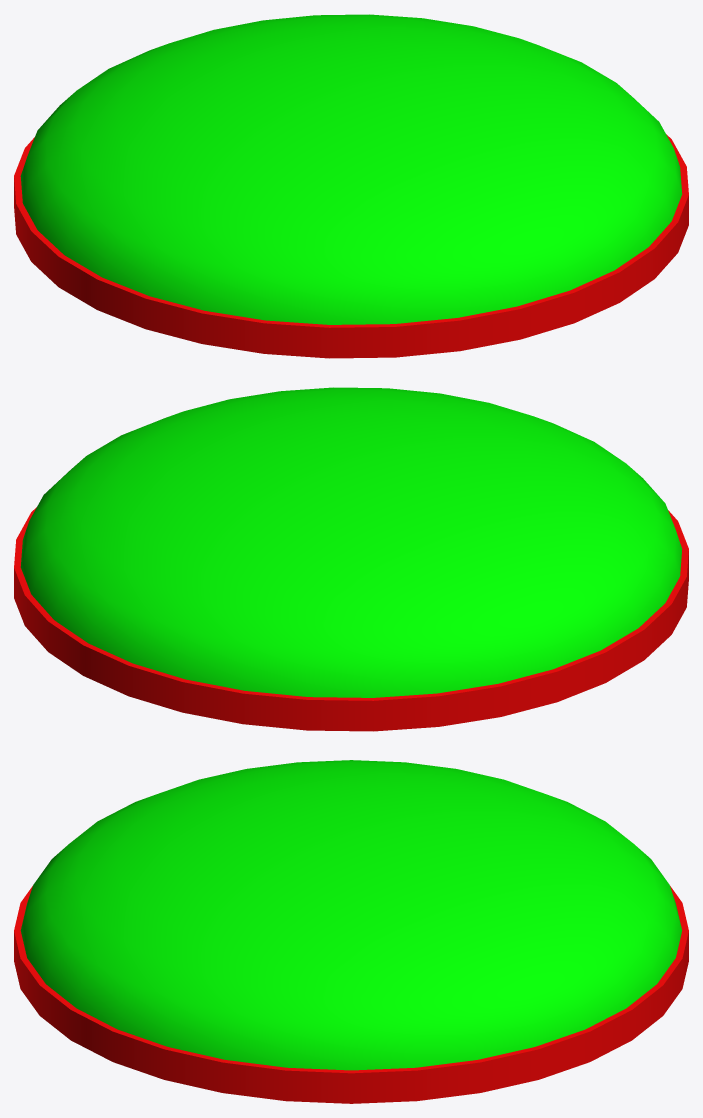
The model's file is ceiling light.fbx.
3 renders of one model, top to bottom at view 1: azimuth 30°, elevation 25°; view 2: azimuth 150°, elevation 25°; view 3: azimuth 270°, elevation 25°, orthographic.
Visible parts, largest first — view 1: Ceiling Light; view 2: Ceiling Light; view 3: Ceiling Light.
Part boxes in pixels (x1,y1,x2,y2): Ceiling Light: (14, 14, 688, 358); Ceiling Light: (14, 387, 688, 731); Ceiling Light: (14, 760, 688, 1103).
Size of the model in its own units: 200 by 42 by 200.
